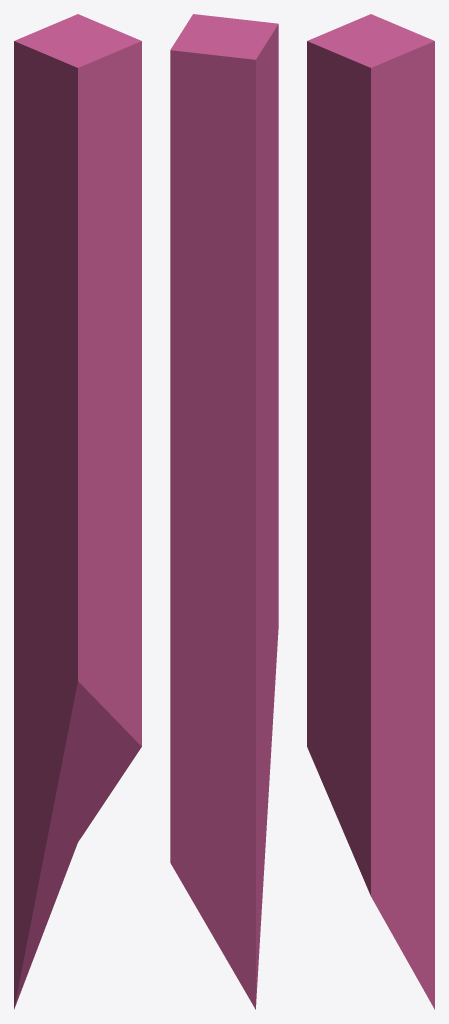
The model's file is Pin2Cut2.fbx.
3 renders of one model, left to right at view 1: azimuth 90°, elevation 25°; view 2: azimuth 210°, elevation 25°; view 3: azimuth 270°, elevation 25°, orthographic.
Visible parts, largest first — view 1: Cone; view 2: Cone; view 3: Cone.
Boxes of the visible parts, x1,y1,x2,y2 form: Cone: [14, 14, 141, 1009]; Cone: [170, 14, 278, 1009]; Cone: [307, 14, 434, 1009].
Bounding box in the file's own units: 16.76 × 140 × 16.76.
